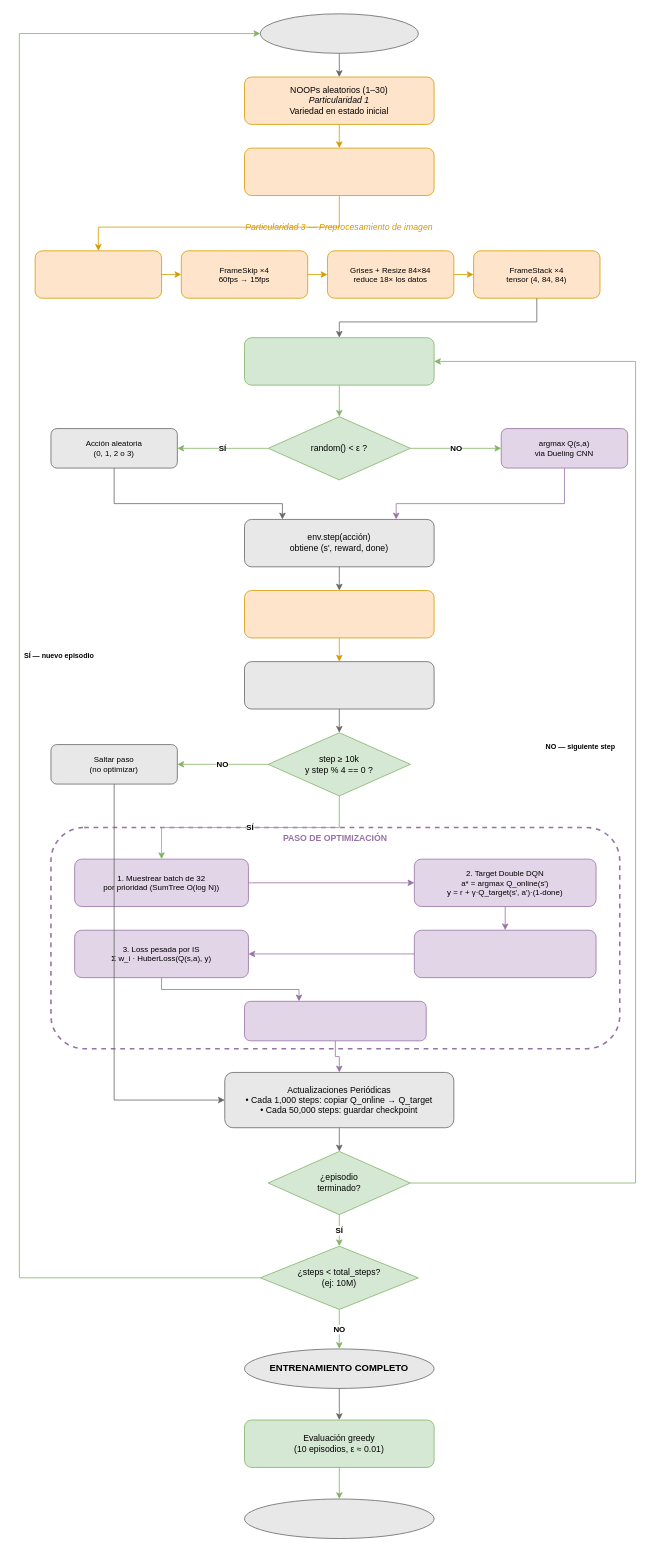
The diagram is 656 pixels wide and 1552 high, and some of its shapes have lost their labels. Here are the shapes that lost their labels. From the top down, the centre of each, then its label:
(339,33): INICIO DEL EPISODIO
(339,171): Presionar FIRE Particularidad 2 Lanza la pelota (crítico en Breakout)
(98,274): MaxFrame anti-flickering
(339,361): Política ε-greedy ε: 1.0 → 0.01 en 300k steps (lineal)
(339,614): Reward Clipping Particularidad 4 clip(reward, -1, +1)
(339,685): buffer.push(s, a, r, s', done) Prioridad máxima del árbol (PER - SumTree)
(505,953): 4. Backprop + Adam (lr=1e-4) Gradient clipping (norm ≤ 10)
(335,1021): 5. Actualizar prioridades PER p = (|TD error| + ε)^α
(339,1518): Gráfica de 6 paneles + Métricas finales
